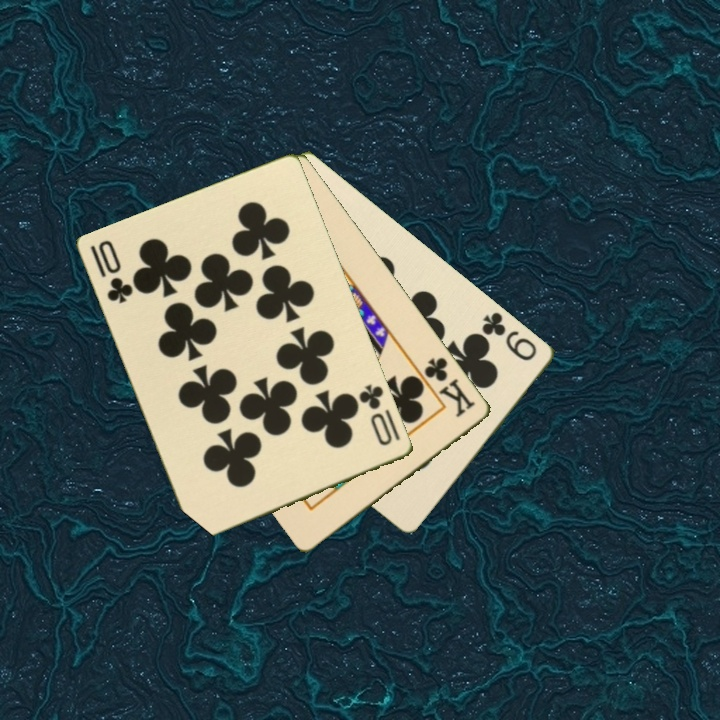10c: (87, 241, 135, 307), (355, 380, 396, 449)
9c: (478, 308, 541, 364)
Kc: (421, 353, 479, 421)
